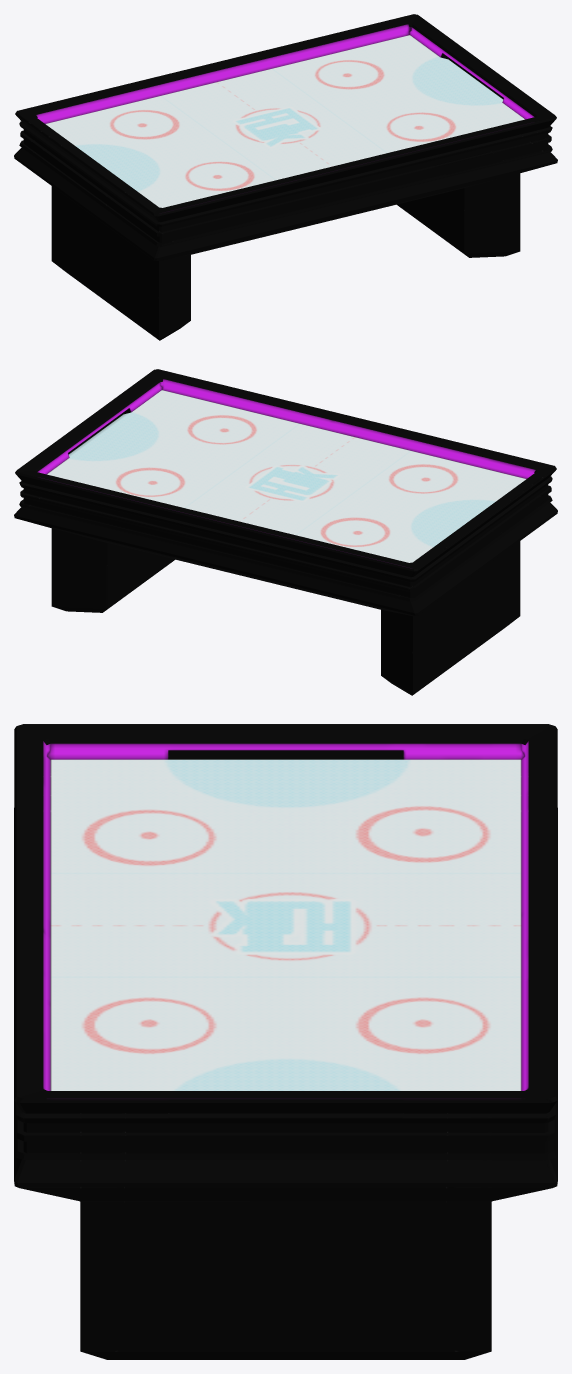
3 renders of one model, top to bottom at view 1: azimuth 30°, elevation 25°; view 2: azimuth 150°, elevation 25°; view 3: azimuth 270°, elevation 25°, orthographic. The views are drawn at different scales.
Visible parts, largest first — view 1: Warehouse_Models:pCube2; view 2: Warehouse_Models:pCube2; view 3: Warehouse_Models:pCube2.
Boxes of the visible parts, box(x1,y1,x2,y2) form: Warehouse_Models:pCube2: box(14, 14, 557, 340); Warehouse_Models:pCube2: box(14, 369, 557, 695); Warehouse_Models:pCube2: box(14, 724, 557, 1359).
Bounding box in the file's own units: 18.01 × 6.4 × 10.98.
1 material, 1 textured.
